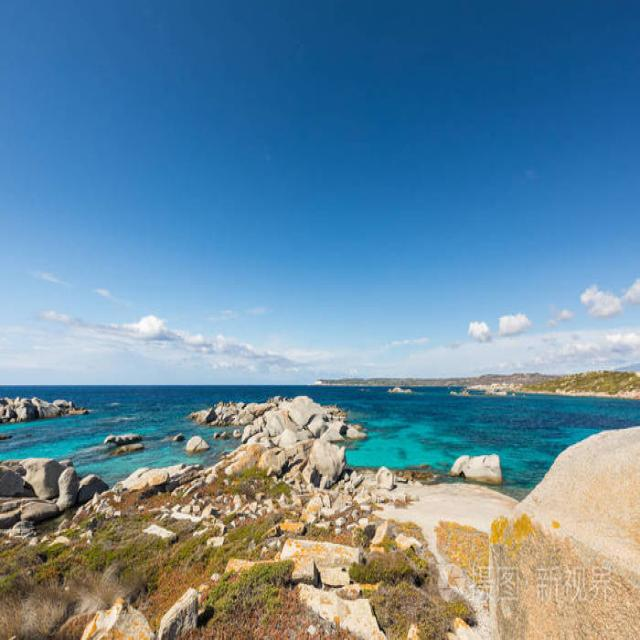reef: (166, 369, 361, 470), (7, 367, 95, 420)
